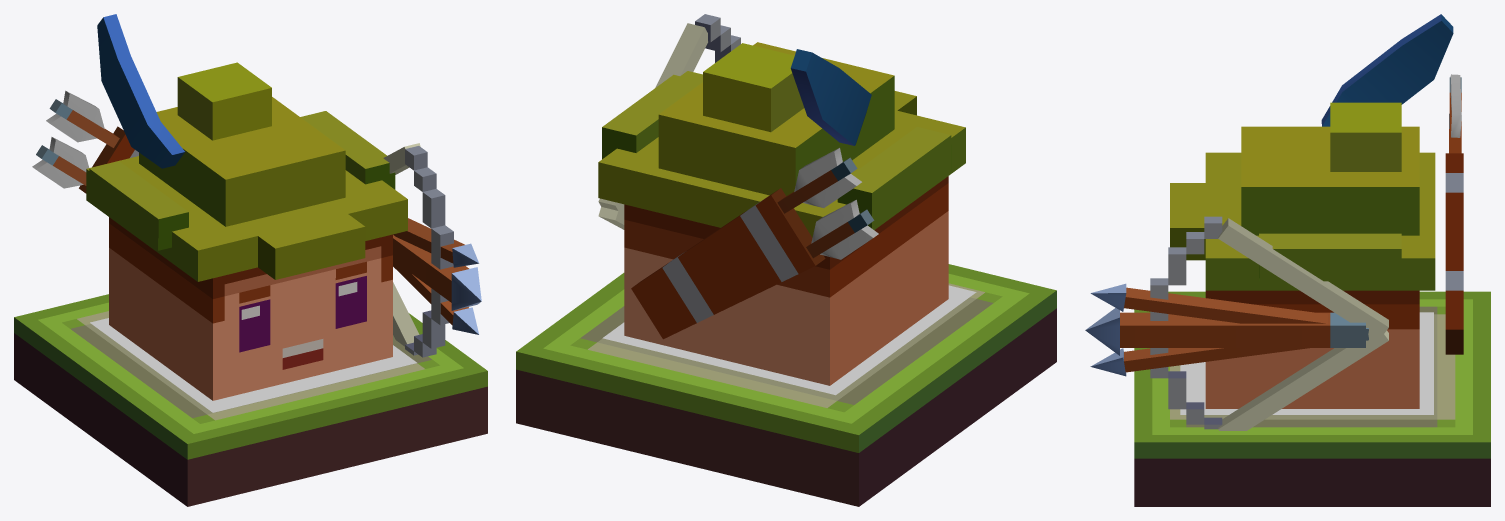
Rendered from Tower_Archer_LVL2.fbx.
3 views of the same model, side by side, from view 1: azimuth 30°, elevation 25°; view 2: azimuth 150°, elevation 25°; view 3: azimuth 270°, elevation 25° (orthographic). The views are drawn at different scales.
Visible parts, largest first — view 1: Base4, Hat, Body, Arrow, Feather, Quiver, Shadow, Bow, StringBot; view 2: Base4, Hat, Body, Quiver, Feather, Shadow, StringTop, Bow; view 3: Base4, Hat, Arrow, Body, Feather, Quiver, StringTop, StringBot, Bow, Shadow.
Boxes of the visible parts, x1=… form: Base4: x1=14, y1=294, x2=487, y2=506; Hat: x1=86, y1=62, x2=407, y2=281; Body: x1=109, y1=217, x2=392, y2=400; Arrow: x1=393, y1=218, x2=481, y2=334; Feather: x1=97, y1=14, x2=184, y2=168; Quiver: x1=32, y1=90, x2=138, y2=193; Shadow: x1=90, y1=318, x2=416, y2=412; Bow: x1=405, y1=146, x2=453, y2=357; StringBot: x1=393, y1=282, x2=419, y2=346; Base4: x1=516, y1=264, x2=1056, y2=506; Hat: x1=598, y1=42, x2=965, y2=237; Body: x1=624, y1=176, x2=948, y2=385; Quiver: x1=631, y1=148, x2=878, y2=339; Feather: x1=790, y1=49, x2=871, y2=145; Shadow: x1=602, y1=285, x2=976, y2=395; StringTop: x1=598, y1=23, x2=707, y2=213; Bow: x1=695, y1=14, x2=740, y2=62; Base4: x1=1134, y1=291, x2=1490, y2=506; Hat: x1=1170, y1=102, x2=1435, y2=290; Arrow: x1=1085, y1=283, x2=1368, y2=376; Body: x1=1205, y1=290, x2=1419, y2=408; Feather: x1=1321, y1=14, x2=1453, y2=126; Quiver: x1=1445, y1=74, x2=1463, y2=354; StringTop: x1=1218, y1=218, x2=1388, y2=340; StringBot: x1=1218, y1=328, x2=1388, y2=430; Bow: x1=1150, y1=216, x2=1222, y2=429; Shadow: x1=1180, y1=312, x2=1433, y2=414.
Bounding box in the file's own units: 100 × 116 × 114.
